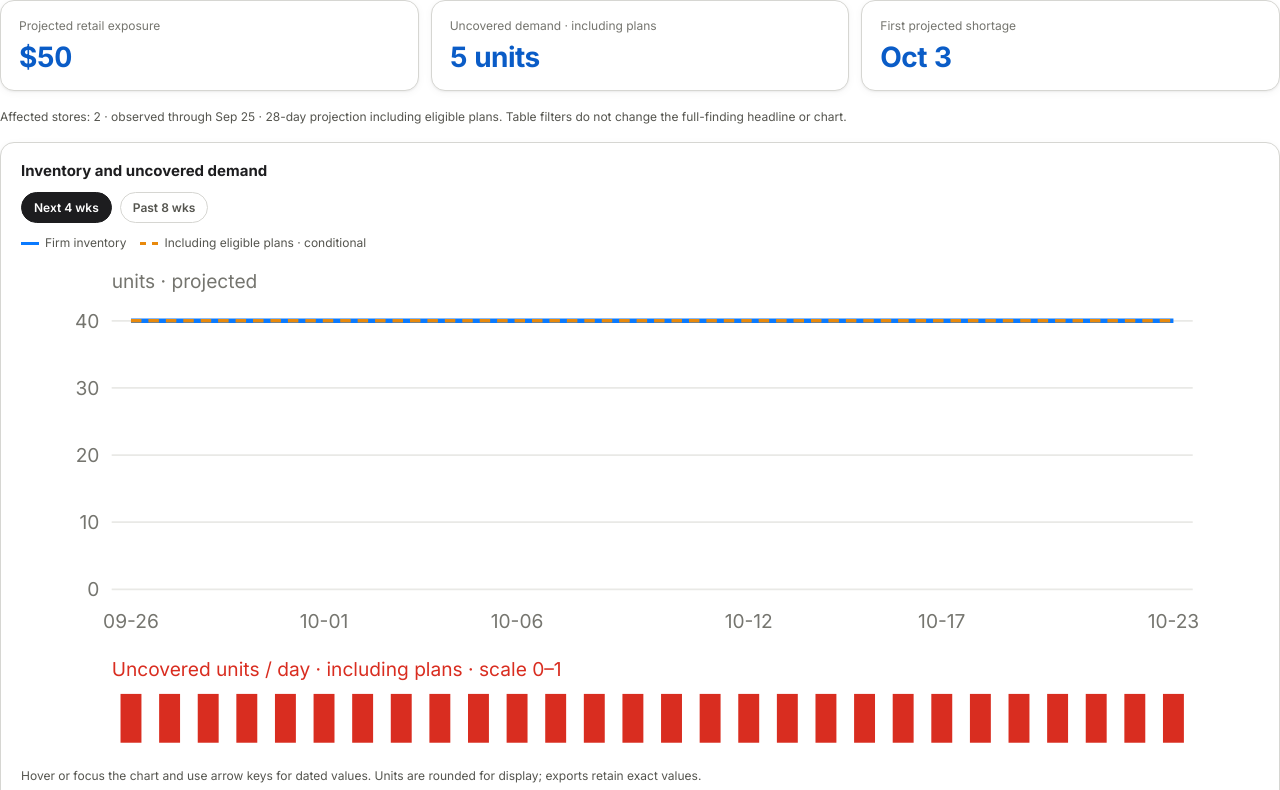
Test: supplied-style Details MVP › supports keyboard chart inspection and leaves missing historical dates as gaps
This screenshot has width=1280, height=790.
Focus the picture at (640,513), box [21, 258, 1259, 767]
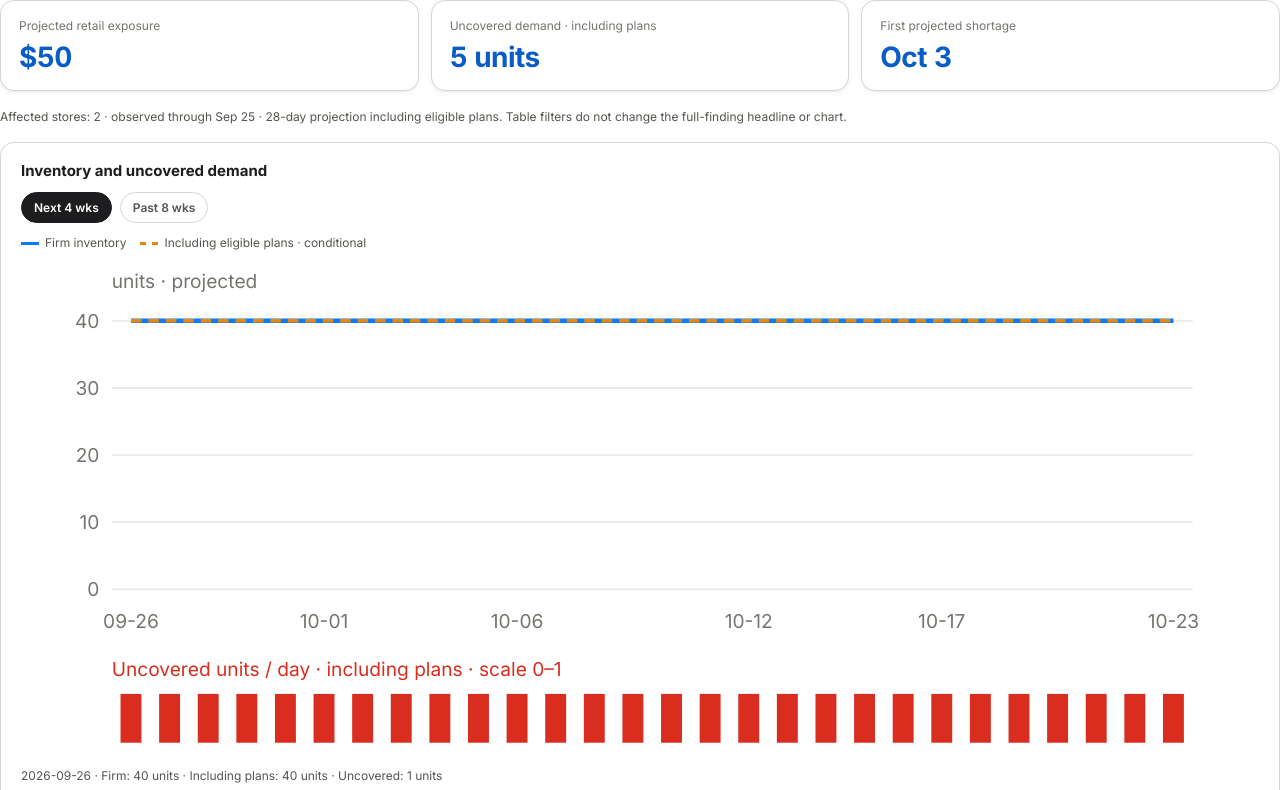
Press ArrowRight in the picture
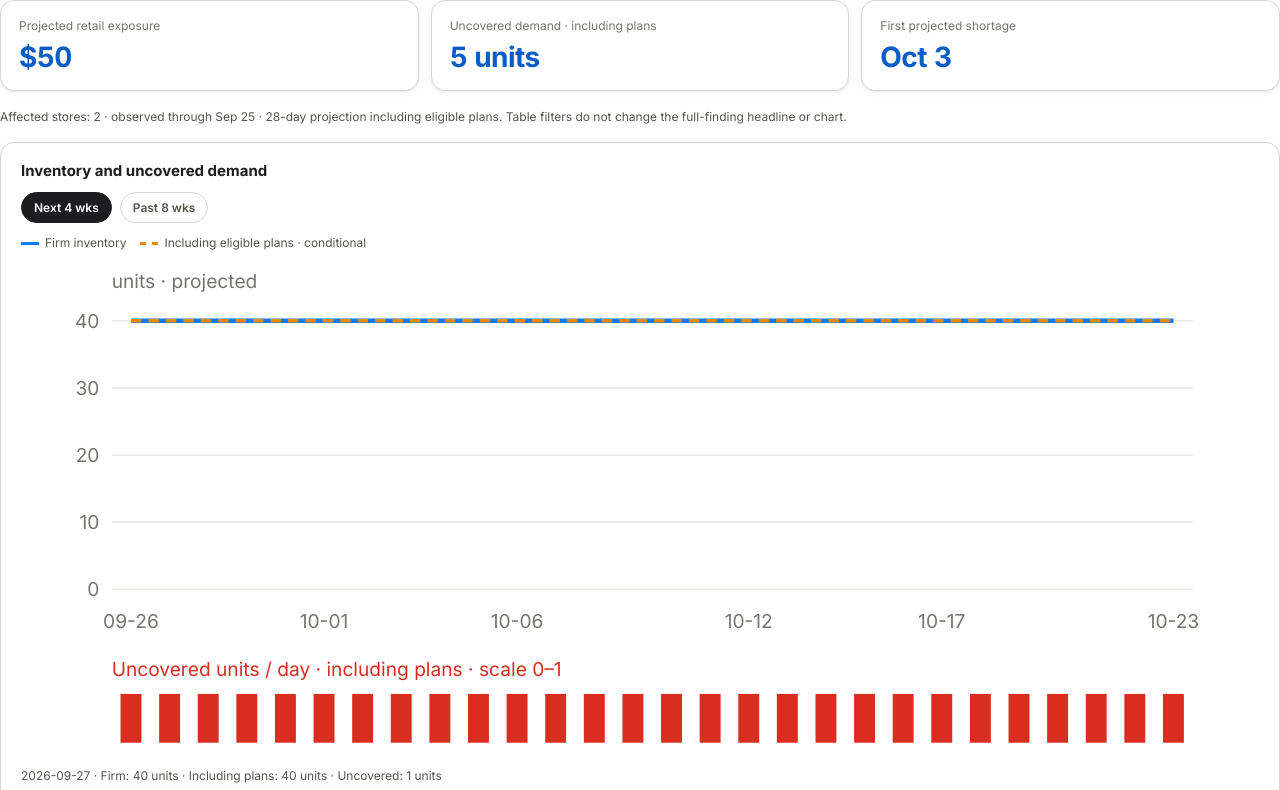
Expected: the text "2026-09-27 · Firm:" is shown, [21, 768, 442, 783]
Click the button "Past 8 wks" at (164,208), box [120, 192, 208, 223]
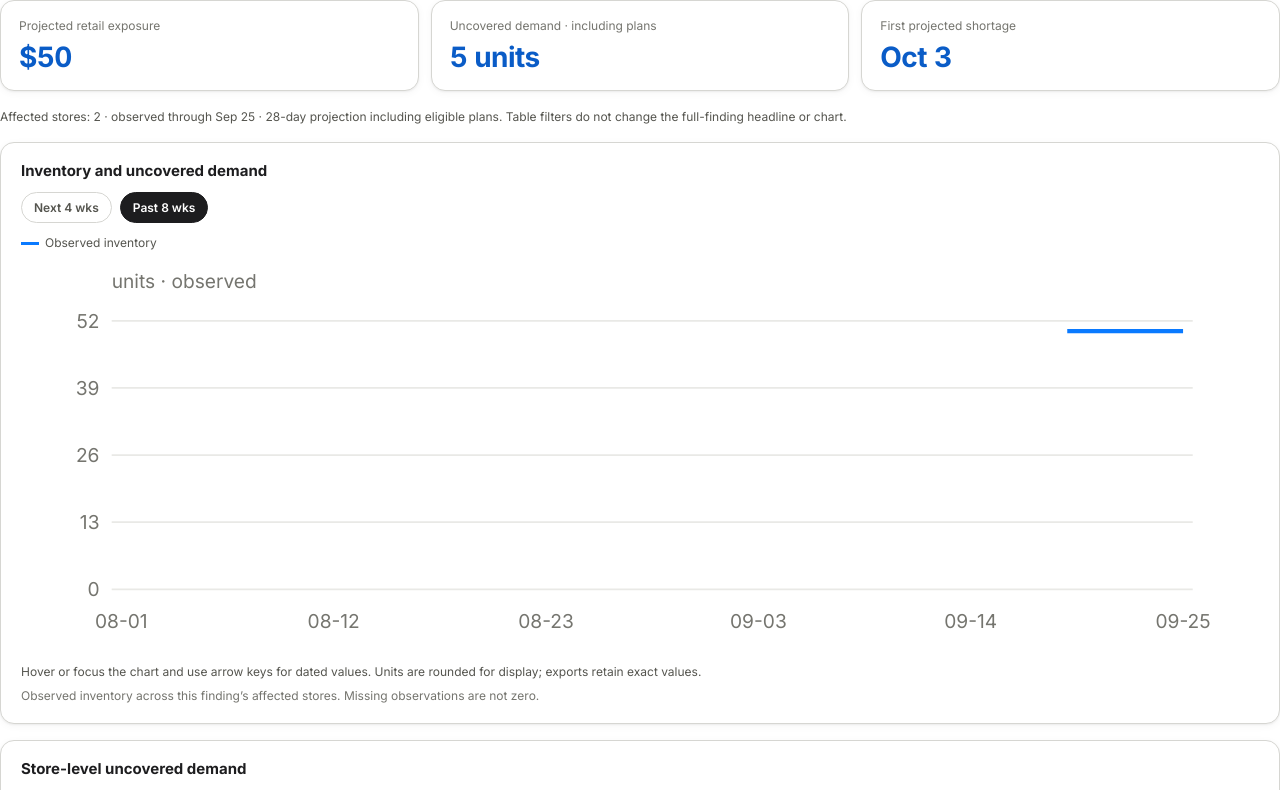
Focus the picture at (640,460), box [21, 258, 1259, 663]
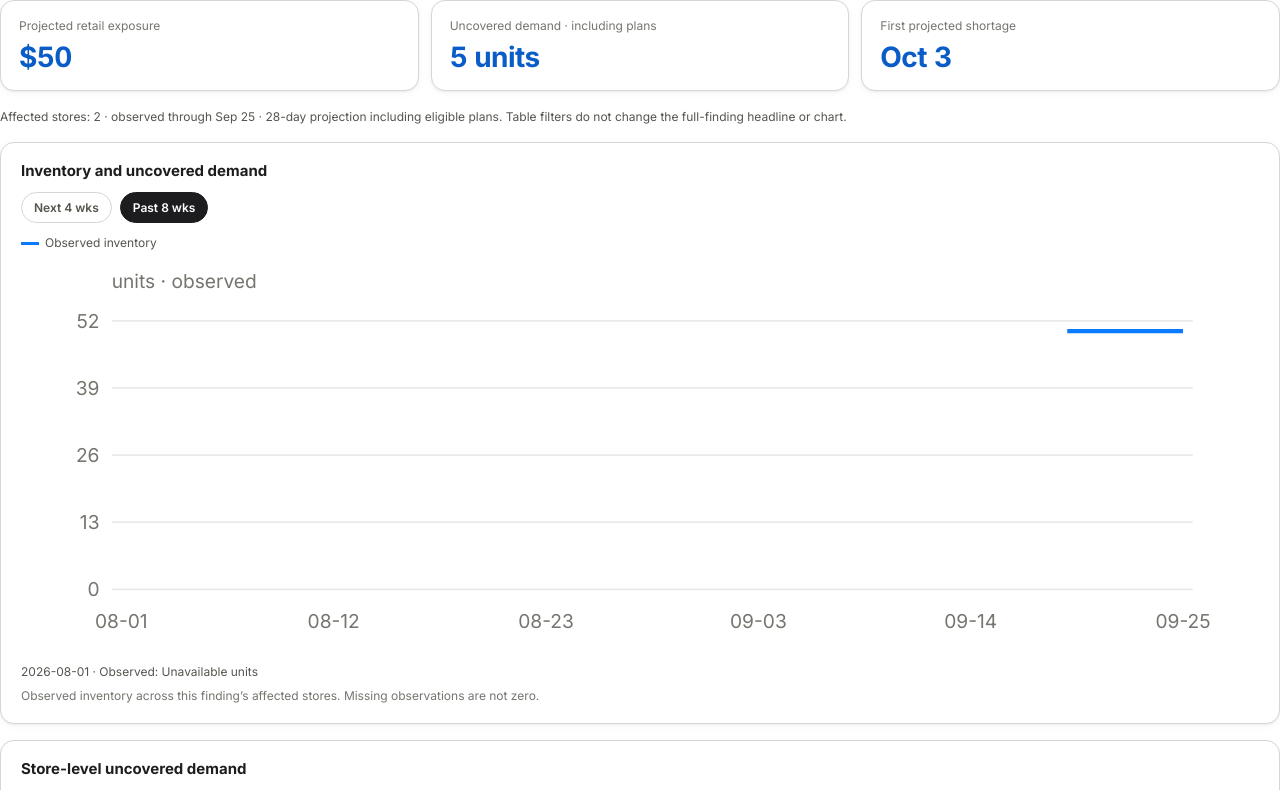
Expected: the text "2026-08-01 · Observed: Unavailable units" is shown, [21, 664, 258, 679]
